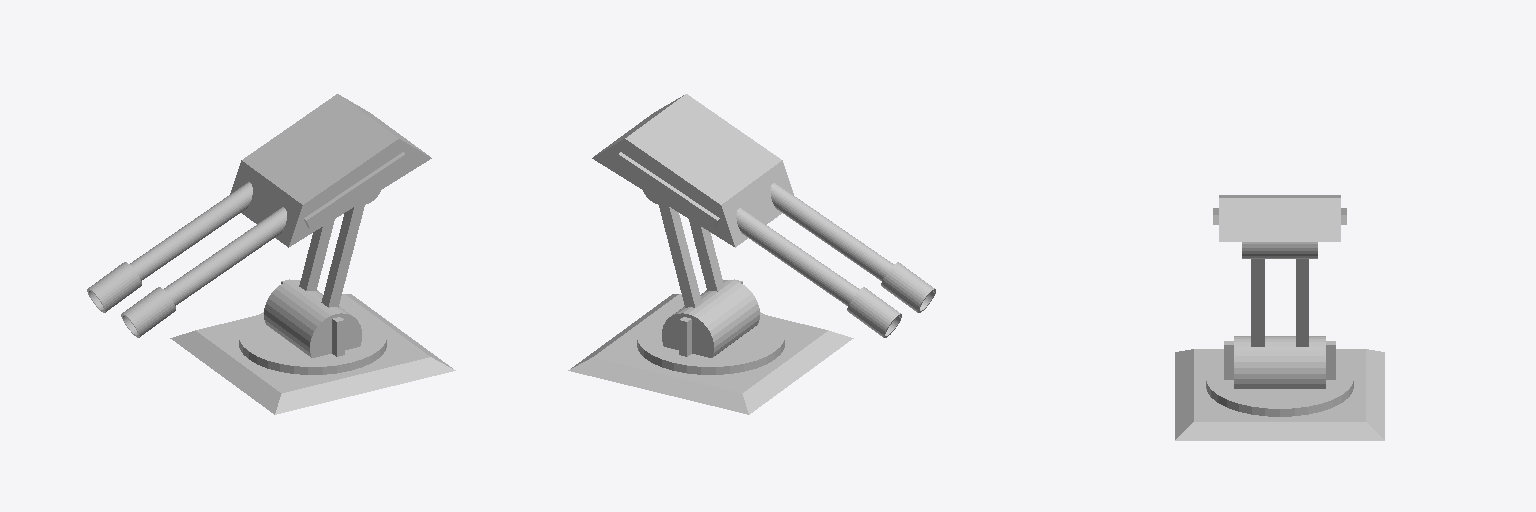
File: Torre Lv2.obj
The picture shows the model from 3 angles: view 1: azimuth 30°, elevation 25°; view 2: azimuth 150°, elevation 25°; view 3: azimuth 270°, elevation 25°; orthographic projection.
Visible parts, largest first — view 1: Cubo.006, Cube.001, Cilindro.009, Cilindro.008, Cilindro.006, Cilindro.010, Cubo.007, Cilindro.005, Cilindro.011, Cubo.005, Cubo.010; view 2: Cubo.006, Cube.001, Cilindro.009, Cilindro.008, Cilindro.006, Cilindro.010, Cubo.010, Cilindro.011, Cilindro.005, Cubo.005, Cubo.007; view 3: Cube.001, Cubo.006, Cilindro.008, Cilindro.009, Cilindro.007, Cubo.007, Cubo.010.
Part boxes in pixels (x1,y1,x2,y2): Cubo.006: (230,94,431,247); Cube.001: (170,294,455,414); Cilindro.009: (239,307,386,374); Cilindro.008: (264,280,361,357); Cilindro.006: (130,182,252,280); Cilindro.010: (164,207,286,305); Cubo.007: (321,205,364,307); Cilindro.005: (87,262,141,312); Cilindro.011: (121,287,175,337); Cubo.005: (304,152,408,228); Cubo.010: (299,219,334,290); Cubo.006: (592,94,793,247); Cube.001: (568,294,853,414); Cilindro.009: (637,307,784,374); Cilindro.008: (662,280,759,357); Cilindro.006: (736,208,859,305); Cilindro.010: (770,183,893,280); Cubo.010: (659,205,701,307); Cilindro.011: (881,262,935,312); Cilindro.005: (847,287,901,337); Cubo.005: (615,152,719,228); Cubo.007: (689,219,723,291); Cube.001: (1175,349,1384,440); Cubo.006: (1219,195,1340,241); Cilindro.008: (1234,336,1325,388); Cilindro.009: (1206,357,1353,416); Cilindro.007: (1242,242,1317,258); Cubo.007: (1251,259,1264,346); Cubo.010: (1296,259,1308,346).
Size of the model in its own units: 2.5 by 1.82 by 1.53.